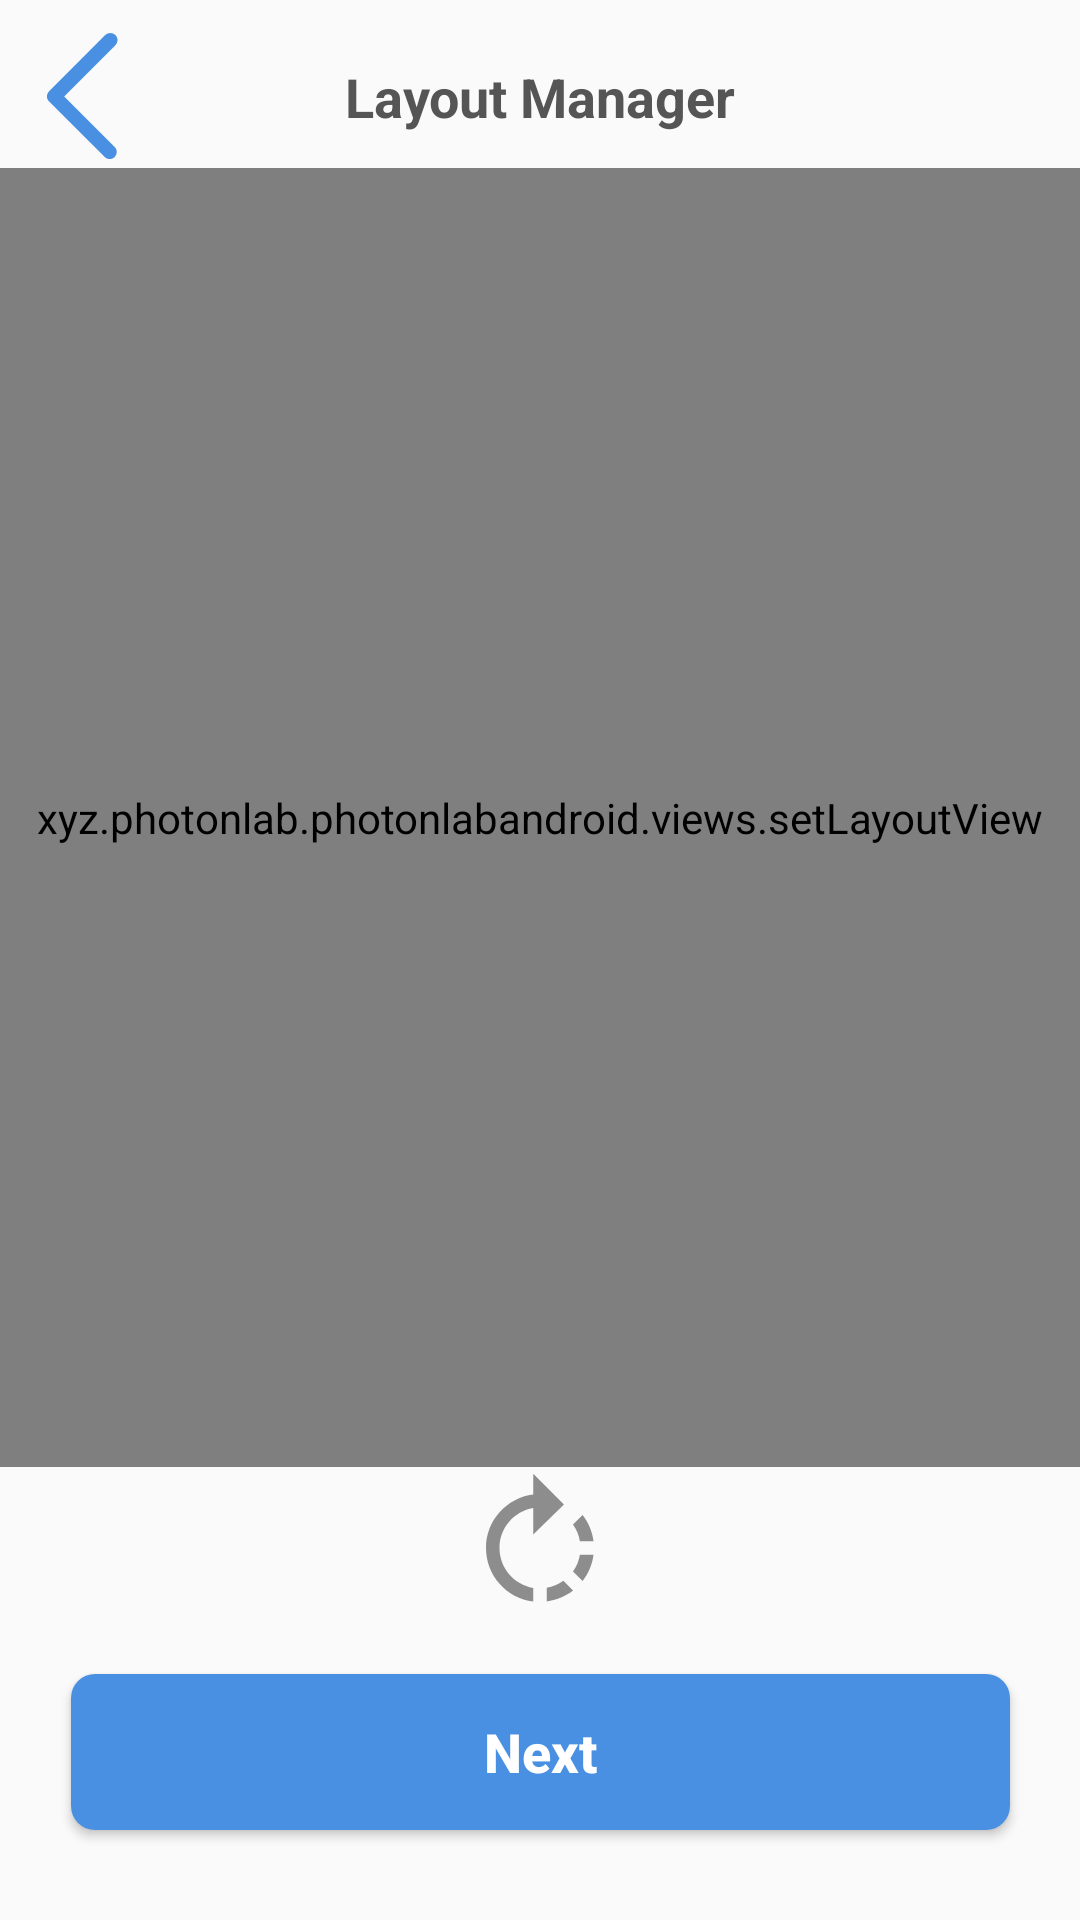

Screen size 1080 × 1920. Icon name, then its box in pixels as (x1, y1, x2, y2):
rotate right: (486, 1474, 594, 1602)
